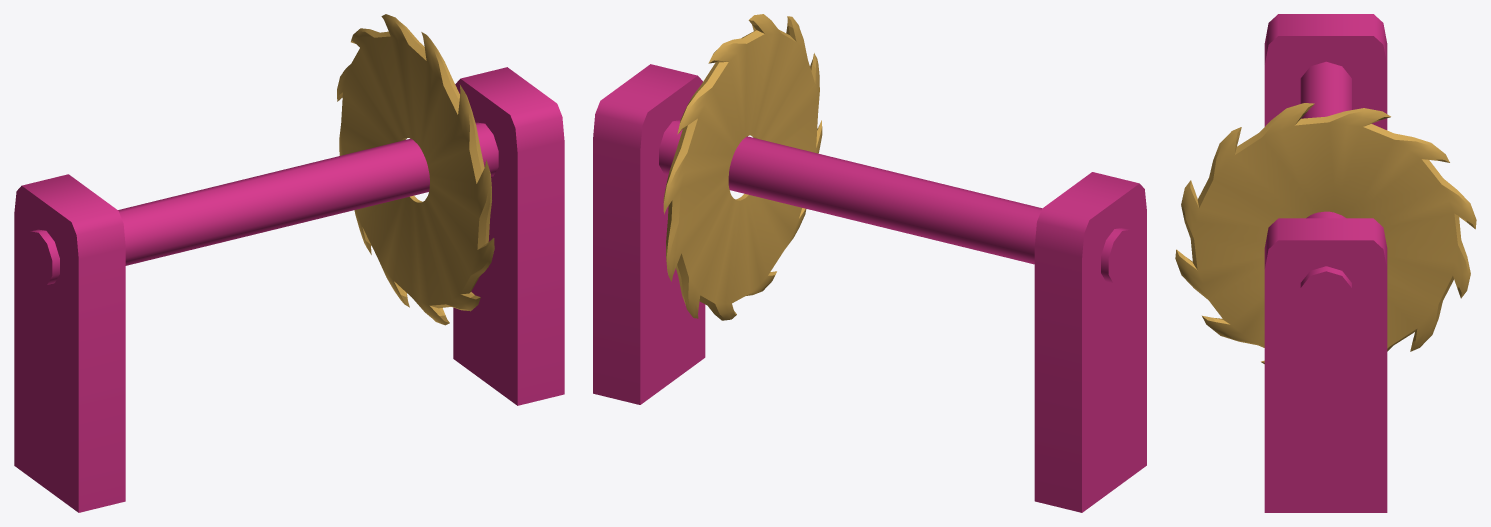
File: buzzSawFloor.fbx
The picture shows the model from 3 angles, left to right: view 1: azimuth 30°, elevation 25°; view 2: azimuth 150°, elevation 25°; view 3: azimuth 270°, elevation 25°; orthographic projection. The views are drawn at different scales.
Parts seen in each view (by area): view 1: SawStand, SawBlade; view 2: SawStand, SawBlade; view 3: SawStand, SawBlade.
Boxes of the visible parts, x1,y1,x2,y2 form: SawStand: (14, 67, 564, 512); SawBlade: (337, 14, 494, 325); SawStand: (593, 64, 1146, 512); SawBlade: (663, 14, 822, 320); SawStand: (1264, 14, 1387, 512); SawBlade: (1175, 103, 1476, 363).
Bounding box in the file's own units: 509 × 359 × 275.
